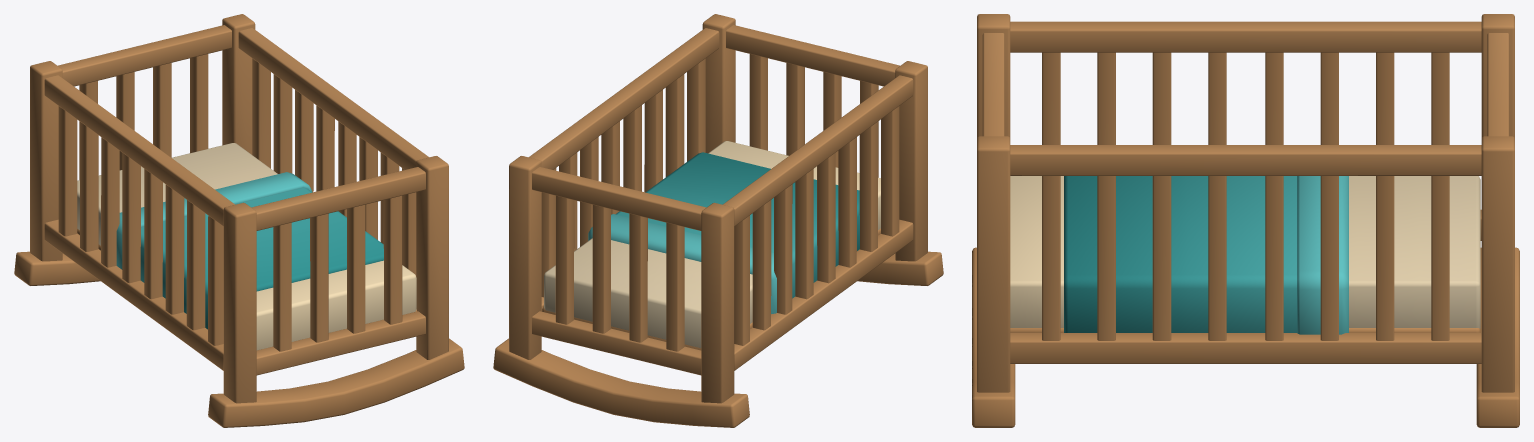
Rendered from Child Bed_2.fbx.
The picture shows the model from 3 angles, left to right: view 1: azimuth 30°, elevation 25°; view 2: azimuth 150°, elevation 25°; view 3: azimuth 270°, elevation 25°; orthographic projection. The views are drawn at different scales.
Visible parts, largest first — view 1: Child Bed_2; view 2: Child Bed_2; view 3: Child Bed_2.
Boxes of the visible parts, x1,y1,x2,y2 form: Child Bed_2: (14,14,464,427); Child Bed_2: (493,14,943,427); Child Bed_2: (972,14,1519,427).
Size of the model in its own units: 1.17 by 1.04 by 1.76.
